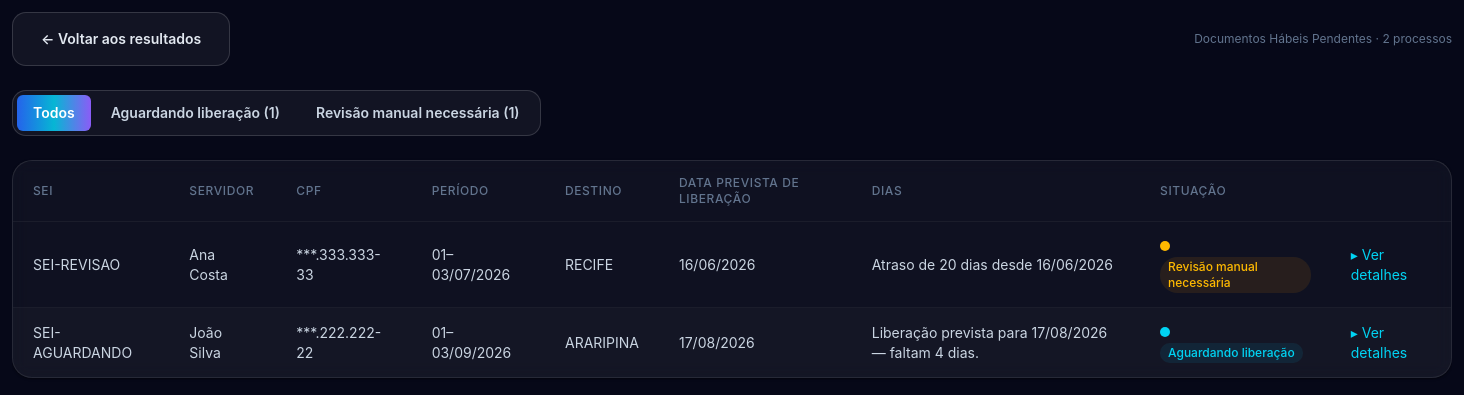
Test: PainelDocumentosHabeisPendentes › com resultado carregado › filtros internos › filtrar por 'Aguardando liberação' esconde a linha de revisão manual
Click the radio button labelled "Aguardando liberação (1)" at (195, 113), box [95,95,296,131]
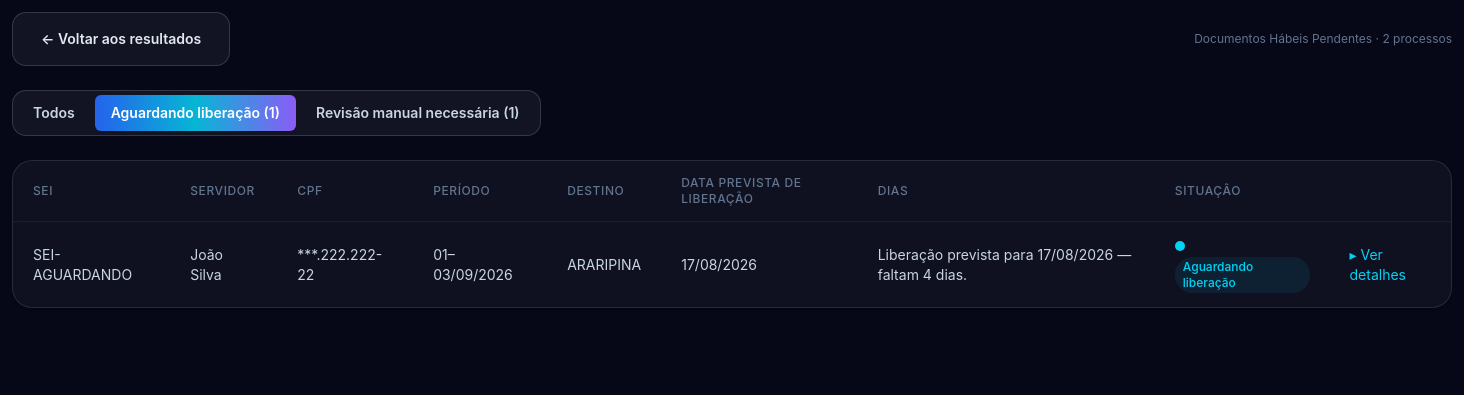
Check: the text "SEI-AGUARDANDO" is shown, box [13,222,170,307]
Check: the text "SEI-REVISAO" is gone
